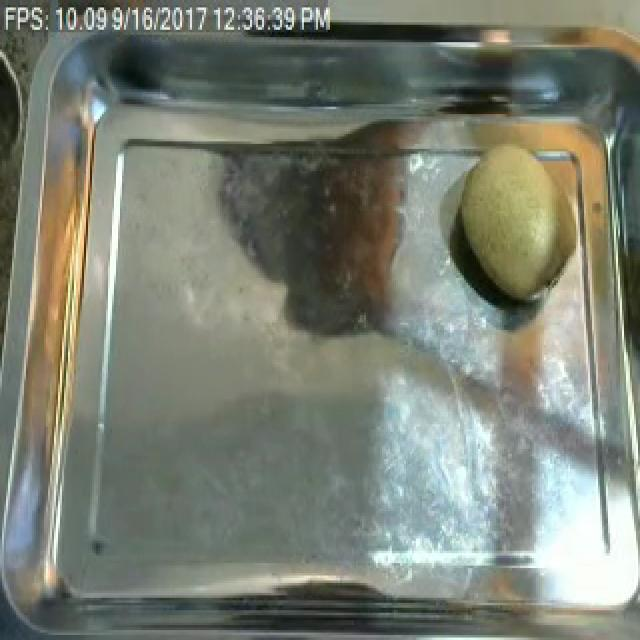Fruit: (444, 134, 598, 315)
